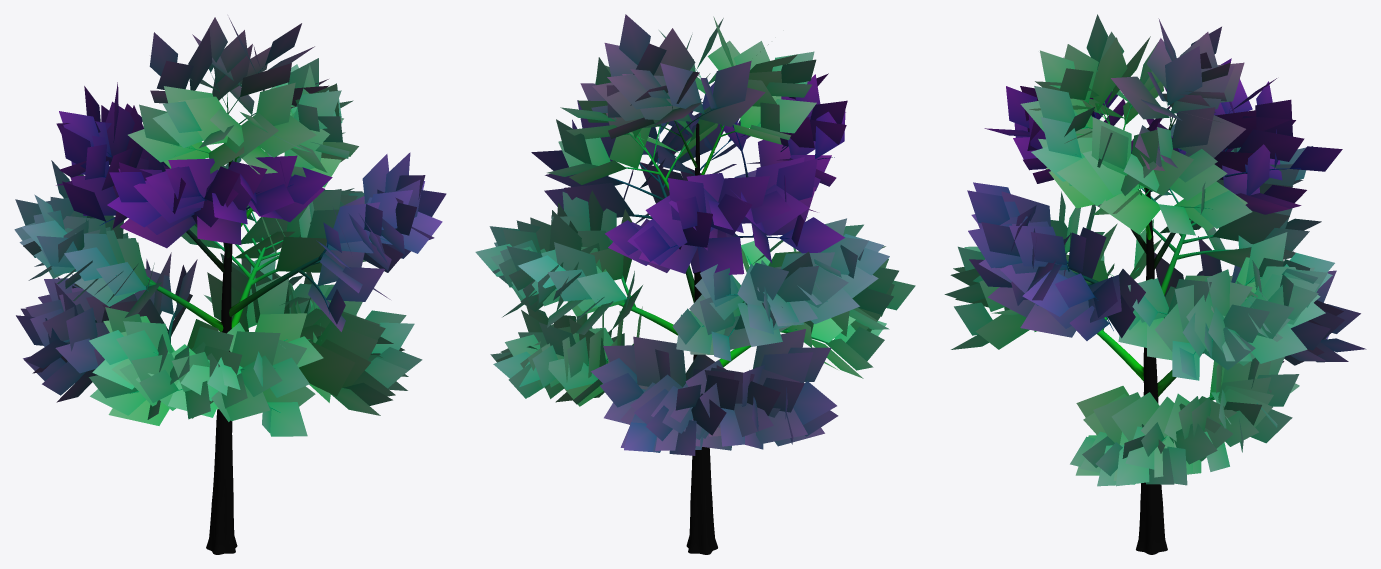
Rendered from Tree3_Mesh.fbx.
3 views of the same model, side by side, from view 1: azimuth 30°, elevation 25°; view 2: azimuth 150°, elevation 25°; view 3: azimuth 270°, elevation 25° (orthographic).
Visible parts, largest first — view 1: Tree_1, Tree_0; view 2: Tree_1, Tree_0; view 3: Tree_1, Tree_0.
Part boxes in pixels (bbox=[...]): Tree_1: bbox=[14, 17, 446, 436]; Tree_0: bbox=[100, 66, 372, 554]; Tree_1: bbox=[475, 14, 915, 455]; Tree_0: bbox=[588, 65, 834, 554]; Tree_1: bbox=[944, 14, 1366, 486]; Tree_0: bbox=[1066, 70, 1300, 554].
Bounding box in the file's own units: 349 × 465 × 345.
